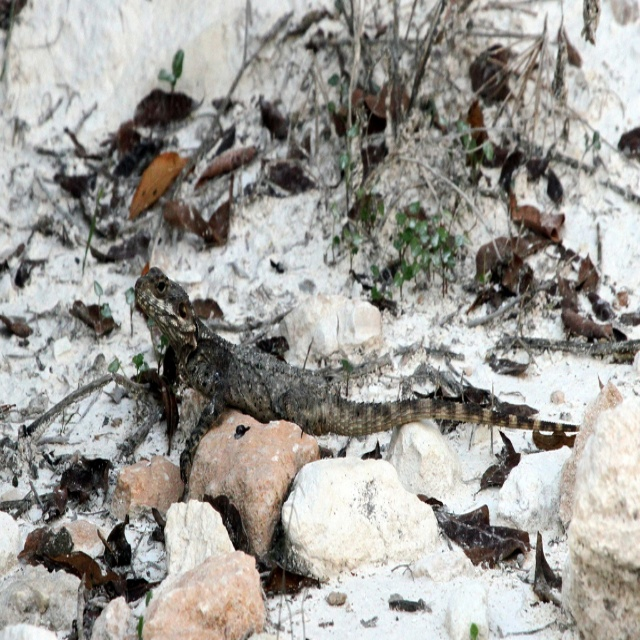Lizard: (132, 264, 573, 484)
